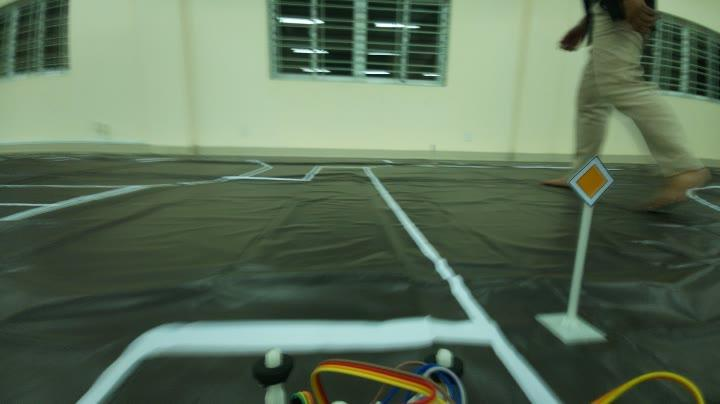priority: (568, 161, 616, 198)
